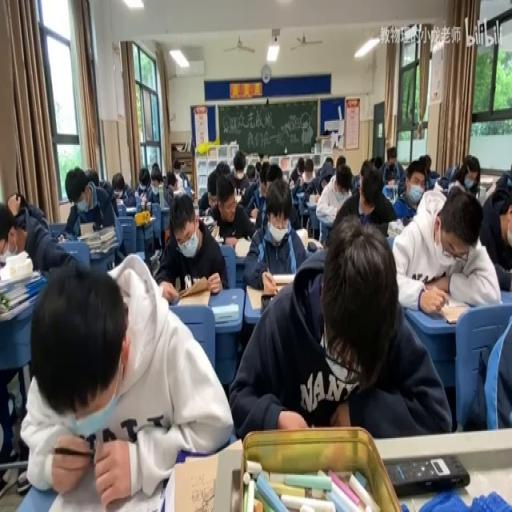calculator: (47, 463, 161, 512), (169, 453, 220, 512), (424, 293, 472, 321), (174, 283, 210, 306), (212, 302, 238, 324), (234, 235, 252, 256), (128, 213, 154, 226), (294, 224, 308, 248), (386, 218, 403, 236), (0, 250, 18, 266), (78, 220, 94, 238), (271, 272, 297, 283), (149, 250, 160, 273), (90, 248, 114, 258), (306, 238, 323, 252), (478, 175, 494, 188), (433, 176, 445, 192), (232, 186, 242, 202), (116, 199, 126, 215), (210, 222, 219, 239), (306, 195, 318, 206), (55, 233, 68, 243), (201, 214, 214, 224), (170, 186, 184, 195), (125, 205, 136, 212), (296, 191, 305, 199), (249, 214, 256, 224), (386, 178, 395, 185), (216, 236, 223, 243), (157, 181, 163, 189)
person: (231, 216, 446, 440), (2, 184, 93, 472), (390, 182, 500, 310), (156, 190, 227, 298), (462, 303, 510, 432), (332, 163, 397, 239), (62, 166, 118, 249), (253, 163, 301, 232), (5, 191, 47, 236), (440, 154, 480, 196), (197, 168, 221, 215), (380, 148, 406, 188), (110, 169, 134, 208), (228, 151, 250, 193), (415, 154, 437, 189), (134, 164, 154, 202), (493, 168, 512, 208), (169, 158, 190, 192), (288, 155, 306, 189), (336, 164, 352, 194), (348, 159, 362, 192), (84, 166, 99, 190), (162, 181, 176, 206), (98, 178, 114, 199), (217, 161, 230, 176), (359, 160, 370, 176), (151, 168, 162, 183), (260, 154, 270, 170), (182, 182, 193, 196), (303, 165, 312, 182), (245, 164, 254, 180), (336, 155, 346, 169), (373, 155, 382, 169), (254, 161, 262, 176), (320, 176, 327, 190), (324, 156, 333, 165)
